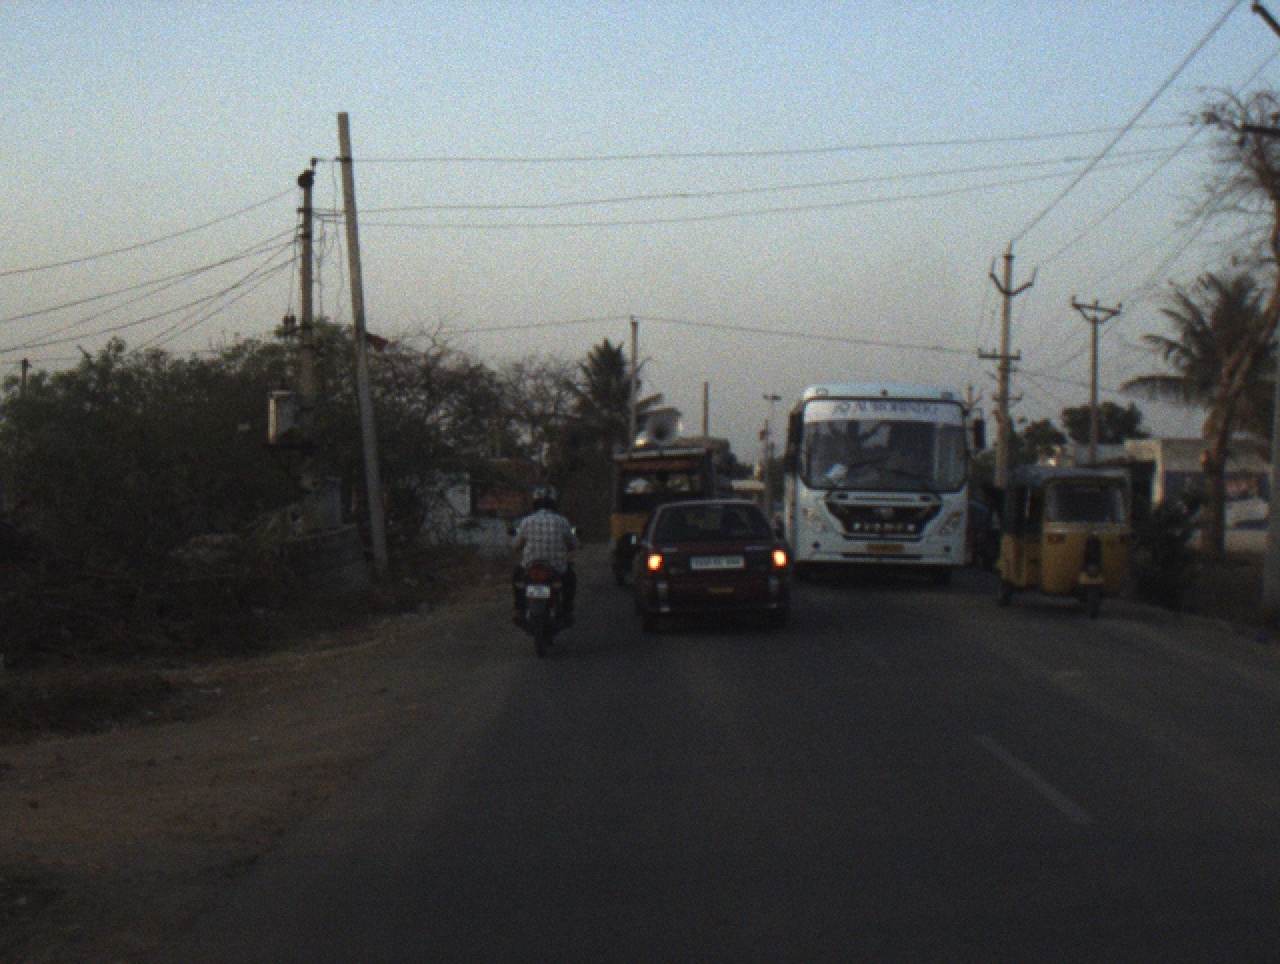autorickshaw: (994, 458, 1140, 620)
bus: (782, 384, 985, 588)
car: (624, 497, 796, 633), (607, 409, 720, 587), (730, 478, 769, 504)
motorcycle: (505, 525, 589, 661)
person: (979, 481, 1004, 573)
rider: (507, 480, 581, 621)
truck: (676, 435, 739, 499), (477, 455, 536, 522)
